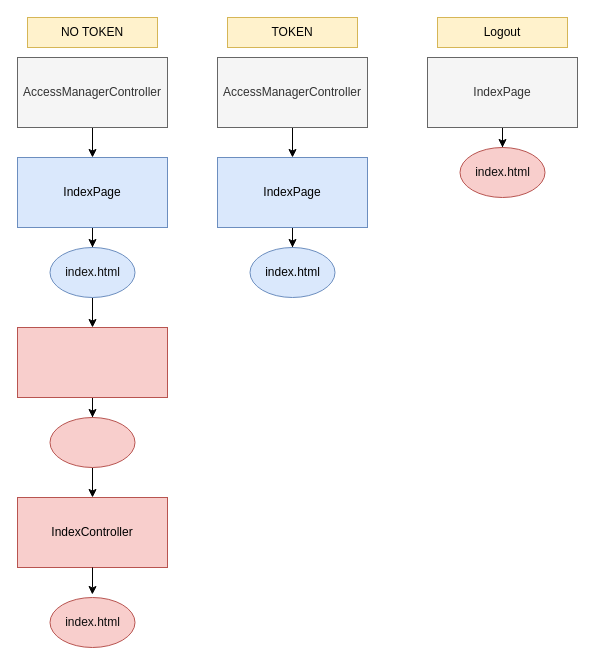
Image size: 595x665. Some labels were removed from this diagram. The shapes that lost their labels are listed below. From the top down, each one's centre as x and y in pixels, then its label:
the point at 92,362: LoginPage
the point at 92,442: login.html
